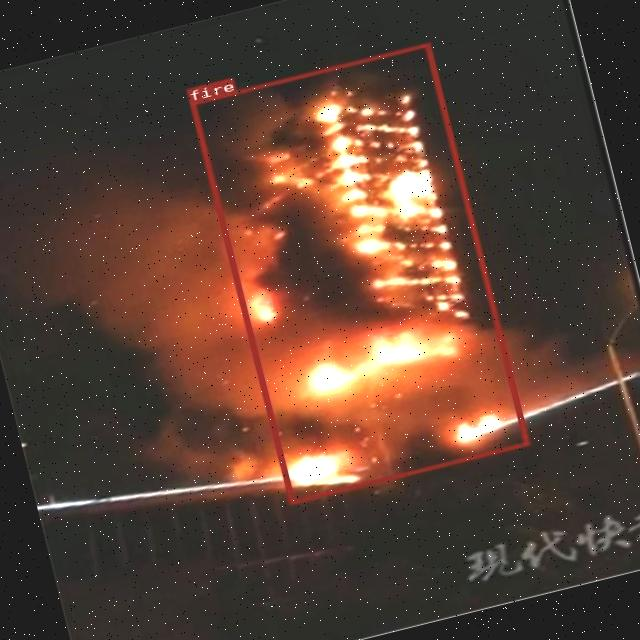fire: (188, 42, 528, 504)
